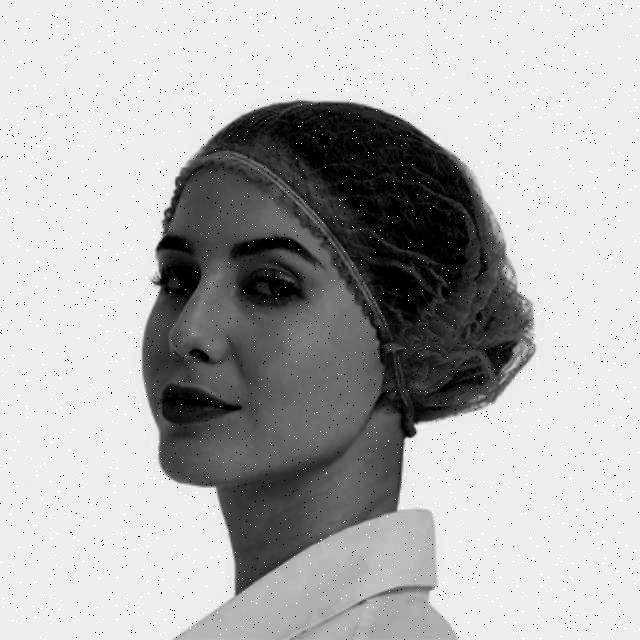gloves: (332, 103, 554, 420)
